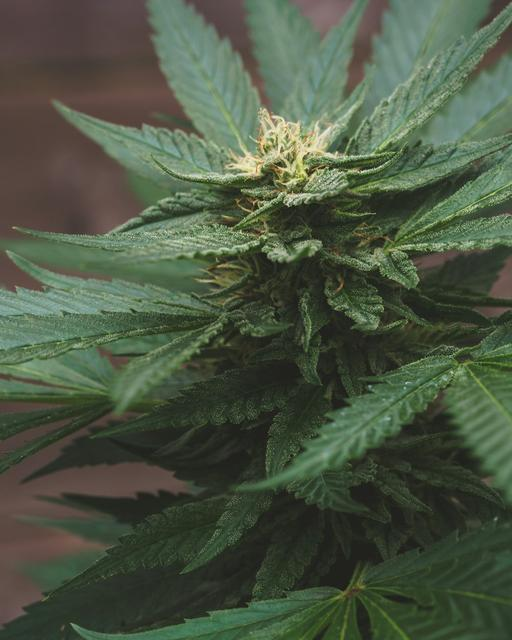Marijuana Plant: (25, 38, 511, 639)
